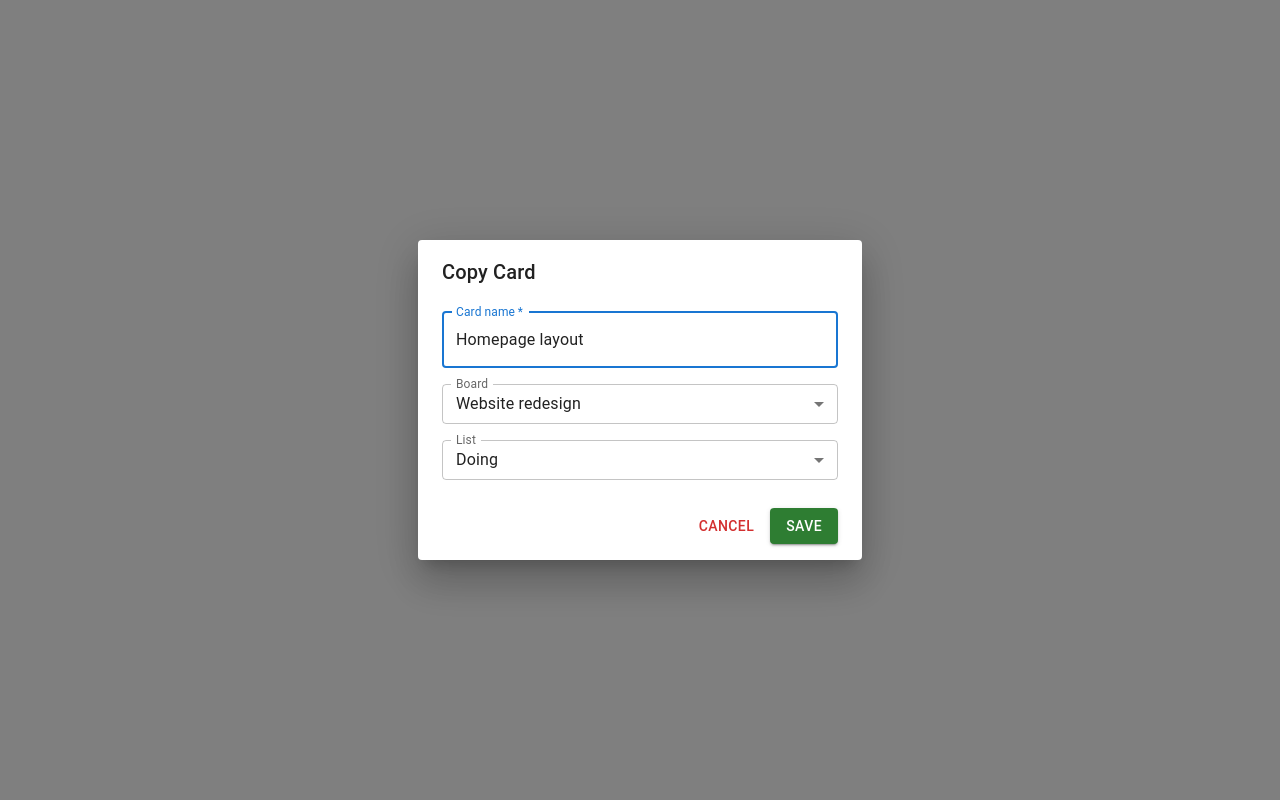
CopyCardDialog › says a board without lists can't take the copy
Expected: the dropdown named "List" reads "Doing", [456,450,498,469]
Click the dropdown named "Board".
click(518, 404)  # box [456,394,581,413]
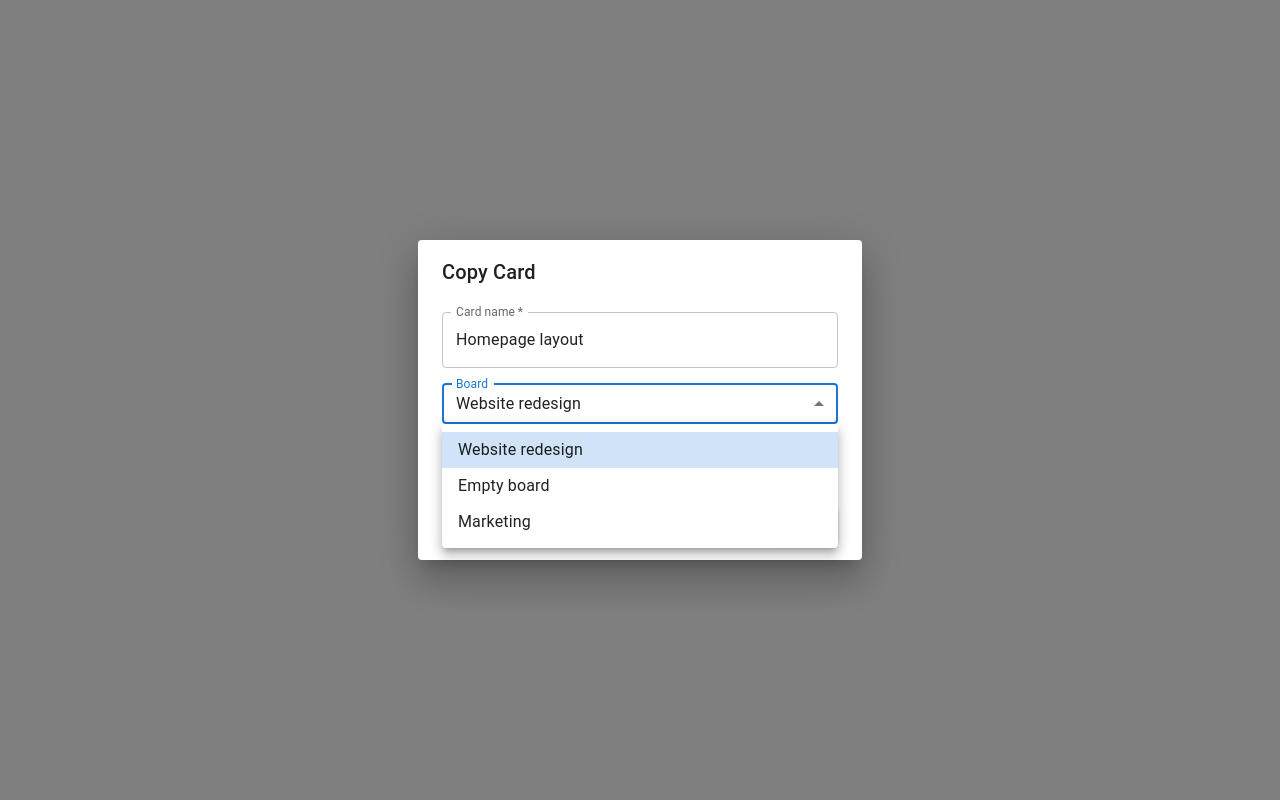
Click the option "Empty board".
click(504, 486)  # box [458,476,550,495]
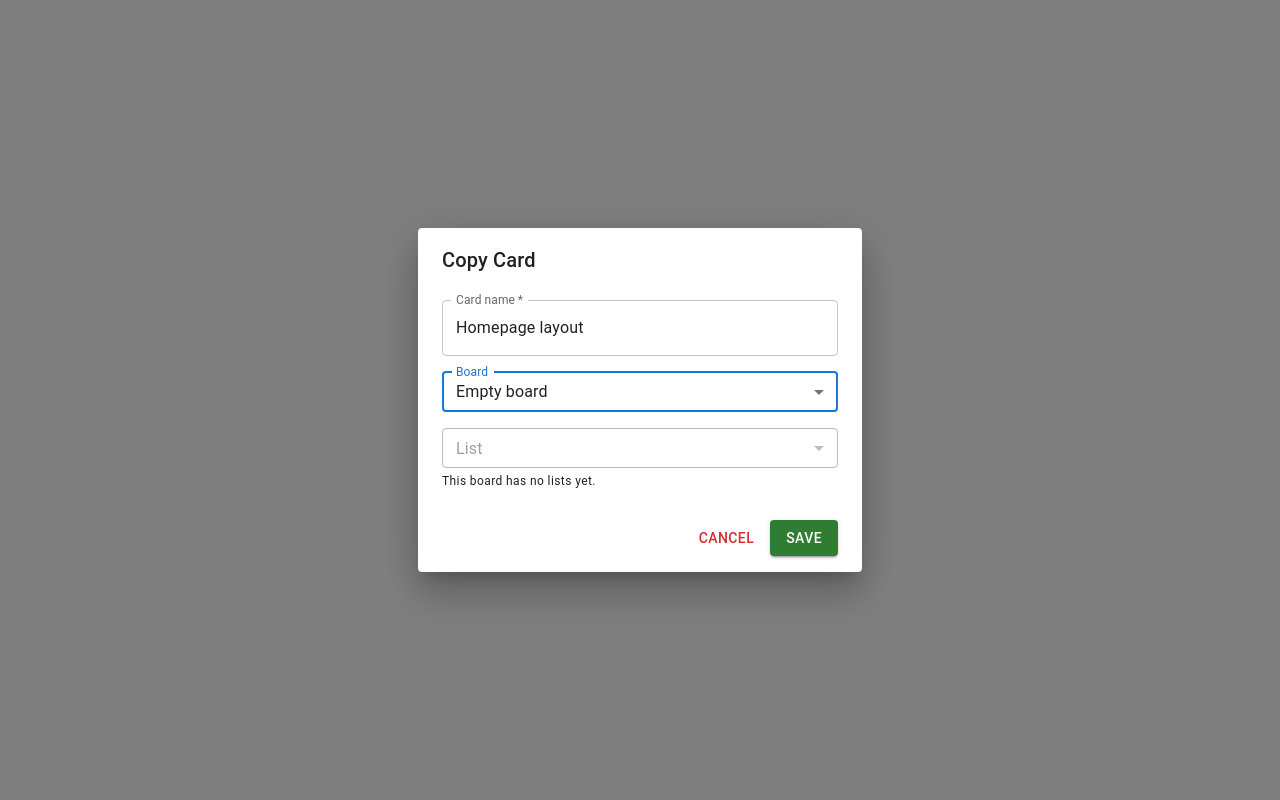
Expected: the text "This board has no lists yet." is shown, [442,474,596,488]
Click the button "Save".
click(804, 538)  # box [770,520,838,556]
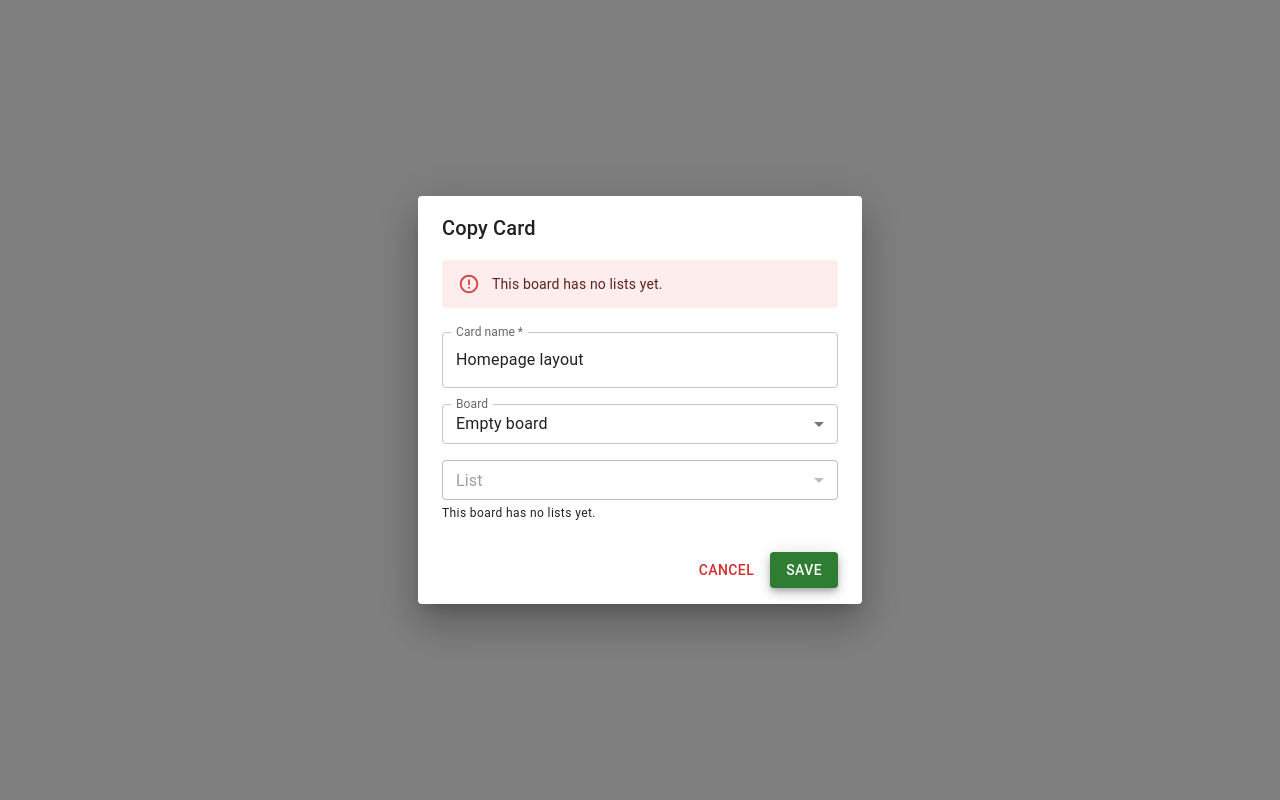
Expected: the message reads "This board has no lists yet.", [492,276,663,292]
